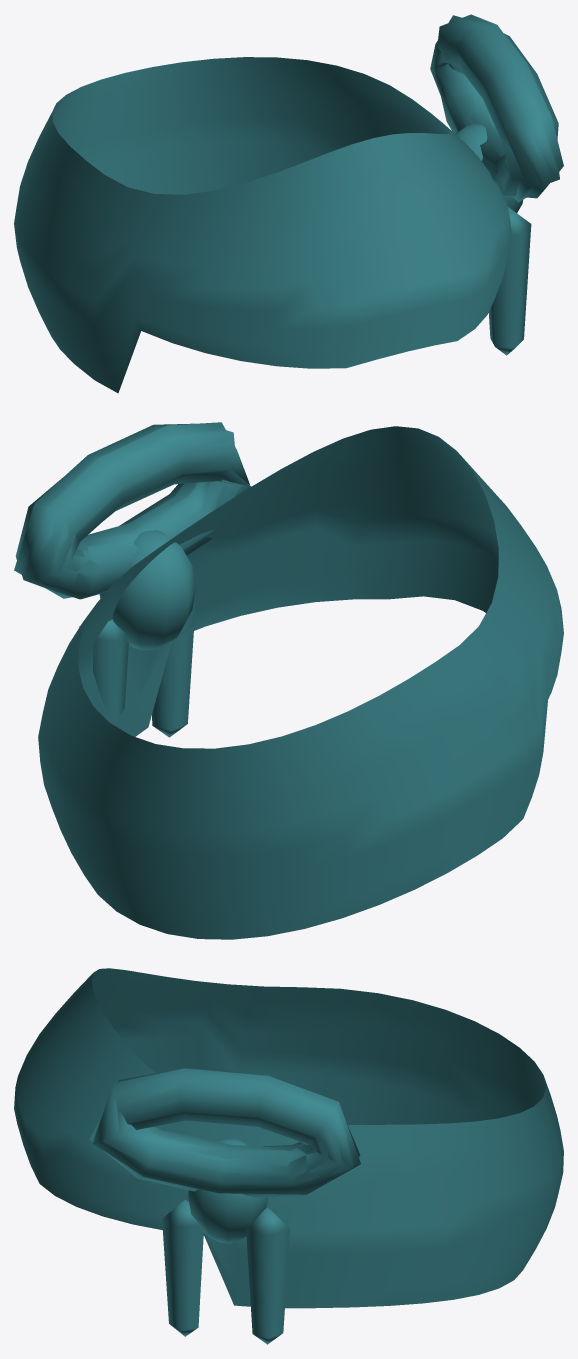
The model's file is gele_side_f.glb.
3 renders of one model, top to bottom at view 1: azimuth 30°, elevation 25°; view 2: azimuth 150°, elevation 25°; view 3: azimuth 270°, elevation 25°, orthographic. The views are drawn at different scales.
Parts seen in each view (by area): view 1: hair; view 2: hair; view 3: hair.
Part boxes in pixels (box(x1,y1,x2,y2)): hair: box(14, 14, 563, 393); hair: box(14, 422, 563, 939); hair: box(14, 968, 563, 1344).
Bounding box in the file's own units: 0.2244 × 0.1459 × 0.2607.
